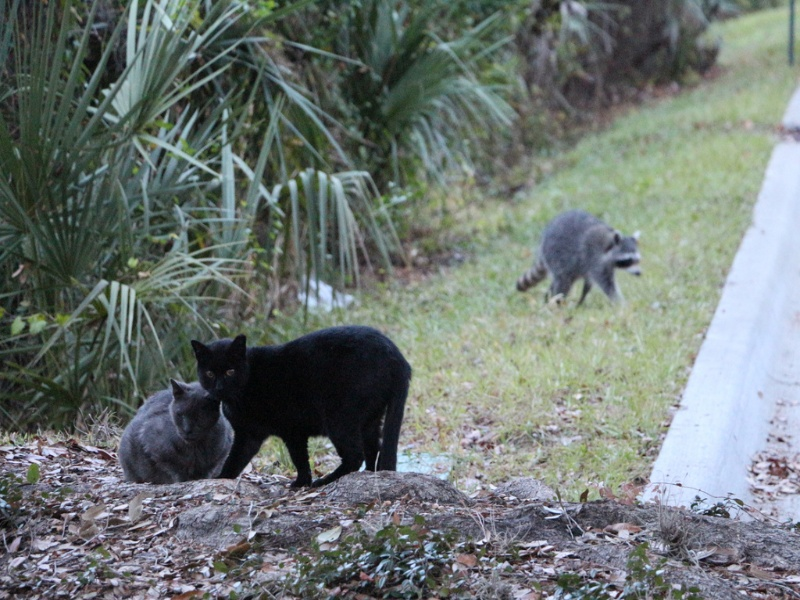cat: (192, 324, 421, 491), (117, 380, 233, 486)
raccoon: (512, 209, 646, 310)
